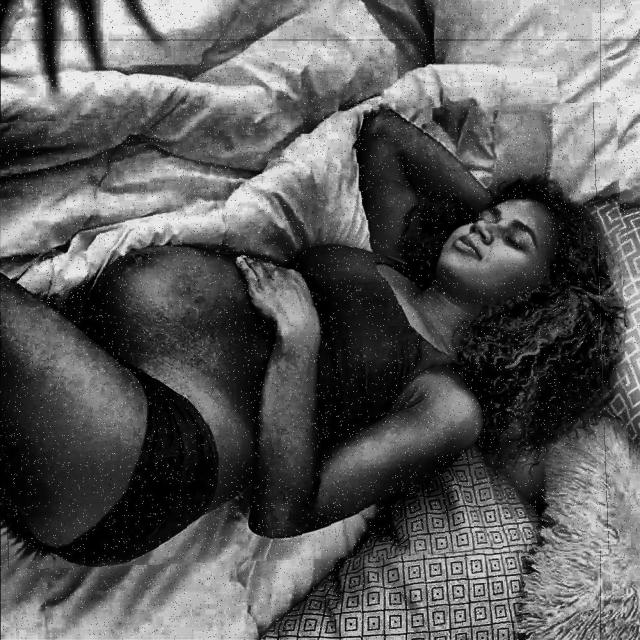Not_Supine: (0, 110, 623, 567)
